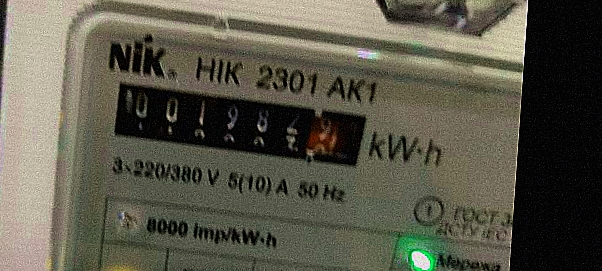0: (162, 94, 181, 124), (132, 89, 150, 119)
1: (194, 96, 208, 126)
2: (283, 105, 303, 135)
8: (253, 104, 271, 133)
9: (314, 113, 336, 143), (223, 101, 240, 131)
screen: (95, 66, 382, 182)
